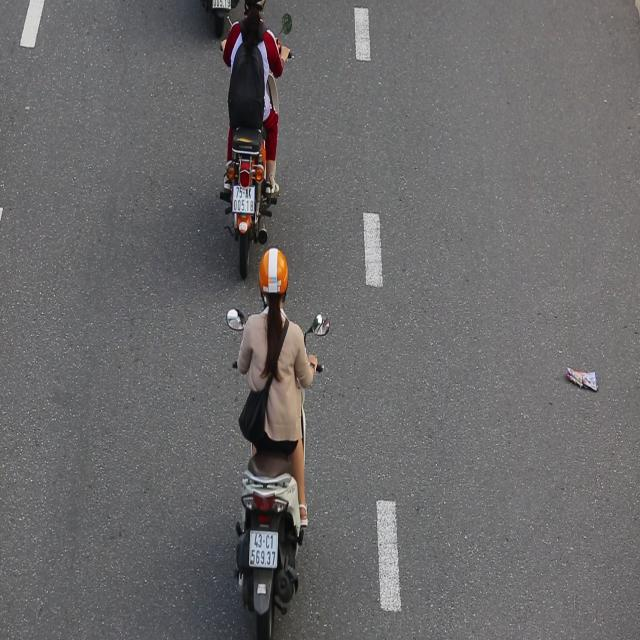motorbike: (228, 244, 333, 640)
